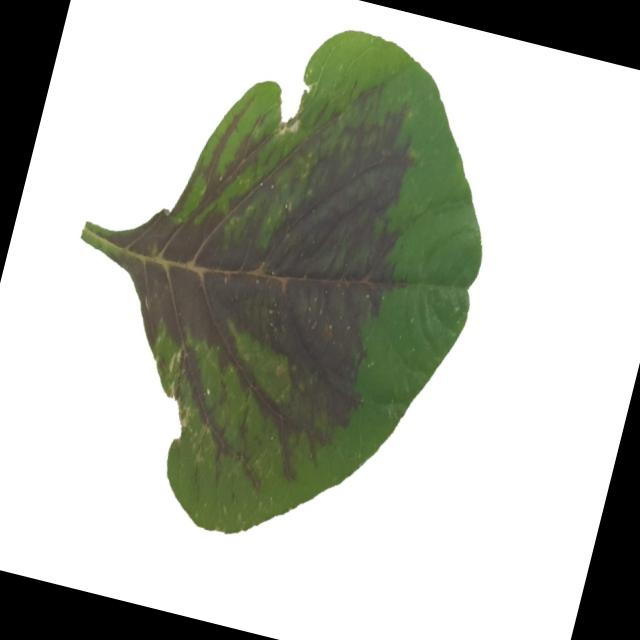Medicinal-Arive Dantu: (19, 0, 528, 581)
